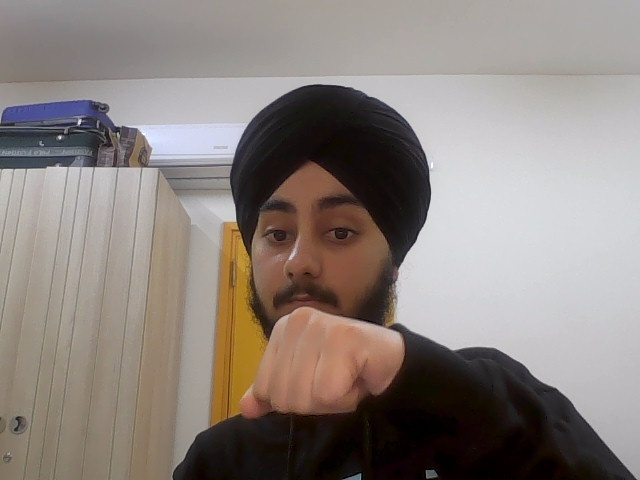Yes: (238, 305, 409, 427)
